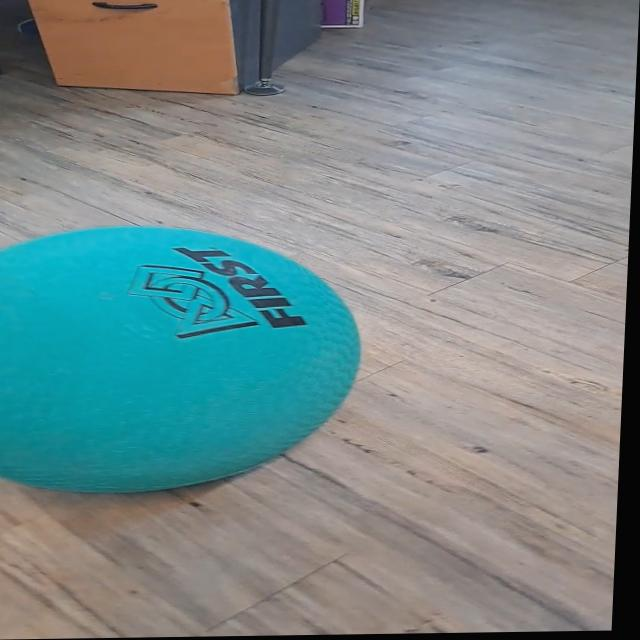ALGAE: (0, 221, 368, 496)
